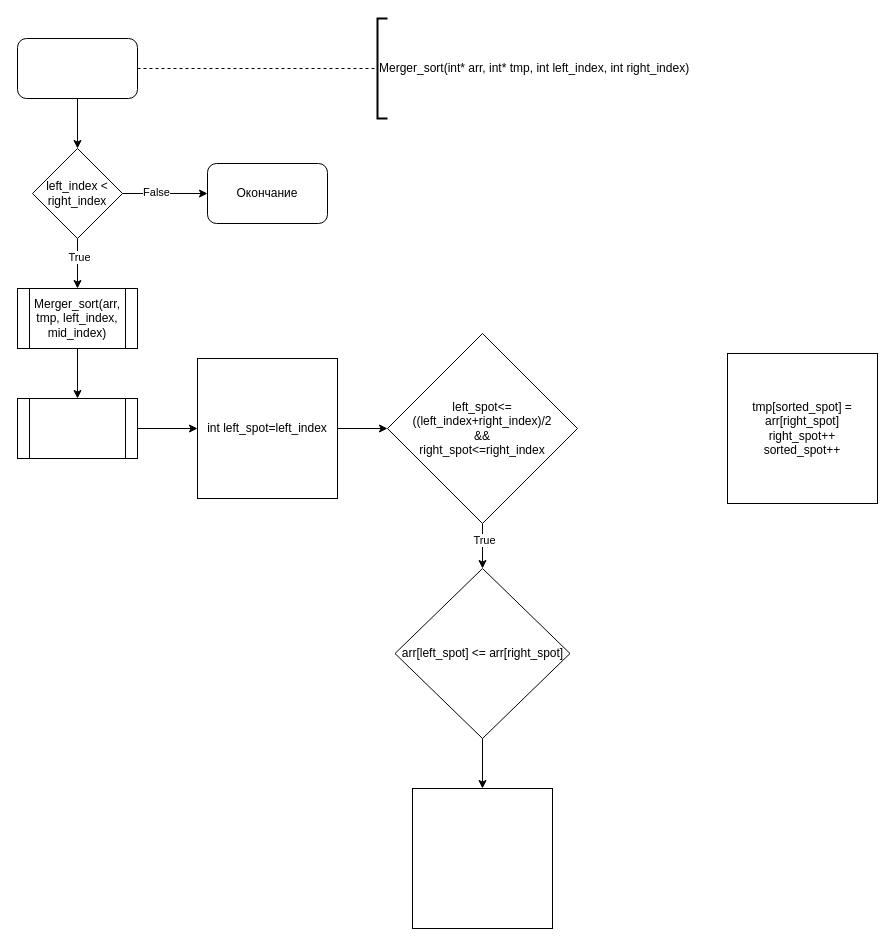
This 895x946 diagram has some shape labels left out. Each missing label, with the centre of its shape:
Merger_sort(arr, tmp, mid_index, right_index): the point at 77,428
tmp[sorted_spot] = arr[left_spot] left_spot++ sorted_spot++: the point at 482,858
Начало: the point at 77,68
